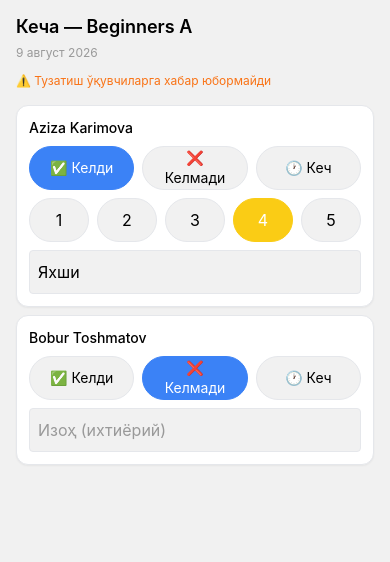
Yesterday — correcting › shows an error and keeps the form editable when a PATCH fails
The image size is (390, 562).
Expected: the heading "Кеча — Beginners A" is shown, [16,16,192,37]
Click the button "🕐 Кеч" below "Aziza Karimova".
click(308, 168)  # box [256,146,361,190]
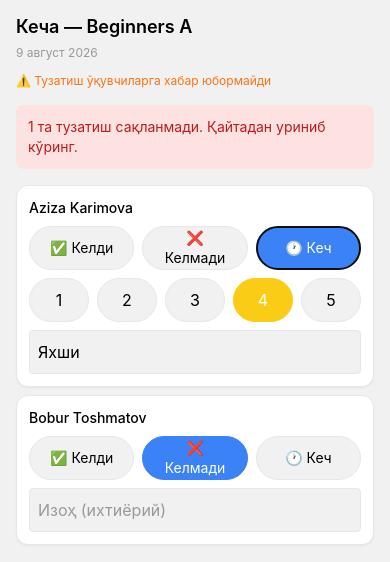
Expected: the button "🕐 Кеч" below "Aziza Karimova" is enabled, [256,226,361,270]
Expected: the message reads "1 та тузатиш сақланмади. Қайтадан уриниб кўринг.", [28,118,326,155]
